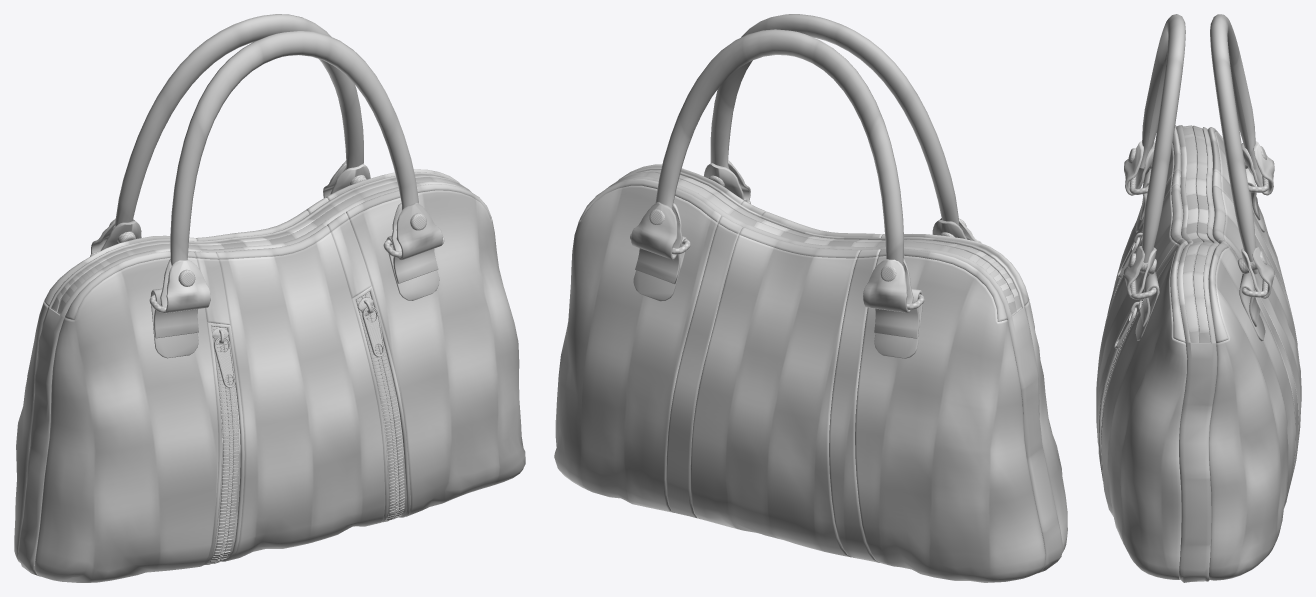
The model's file is bag7.obj.
3 views of the same model, side by side, from view 1: azimuth 30°, elevation 25°; view 2: azimuth 150°, elevation 25°; view 3: azimuth 270°, elevation 25° (orthographic). The views are drawn at different scales.
Size of the model in its own units: 11.56 by 11.23 by 4.54.
1 material, 1 textured.
